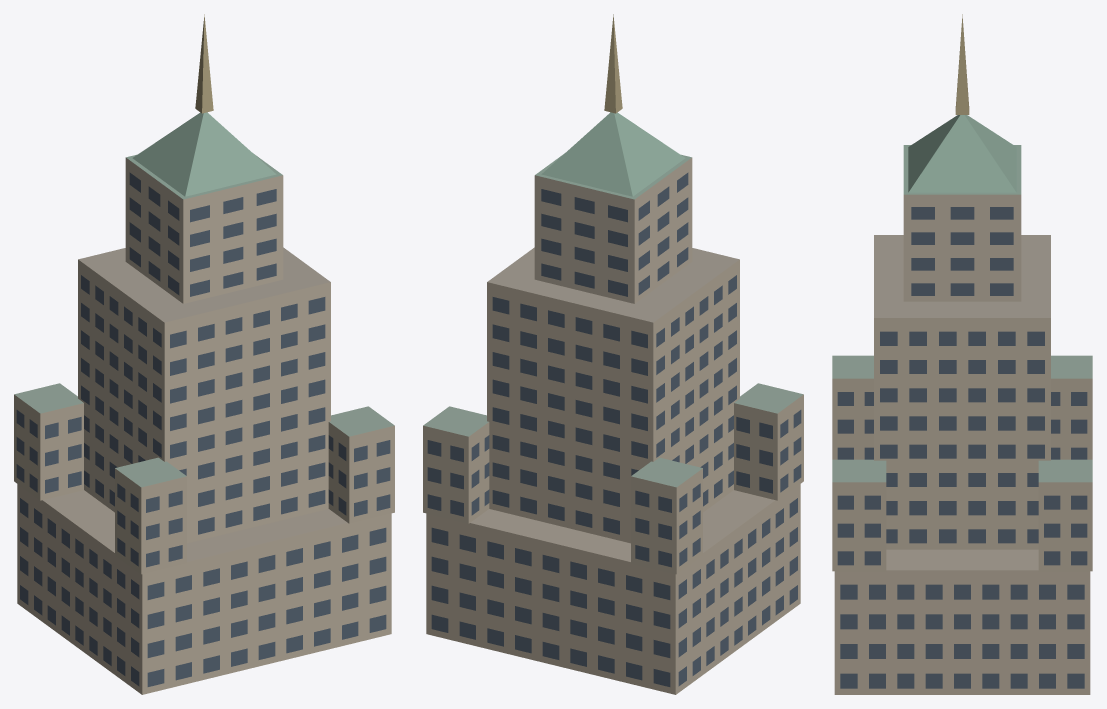
File: highrise_07_monumental_spire.glb
3 views of the same model, side by side, from view 1: azimuth 30°, elevation 25°; view 2: azimuth 150°, elevation 25°; view 3: azimuth 270°, elevation 25° (orthographic). The views are drawn at different scales.
Visible parts, largest first — view 1: highrise_07_monumental_spire; view 2: highrise_07_monumental_spire; view 3: highrise_07_monumental_spire.
Part boxes in pixels (x1,y1,x2,y2): highrise_07_monumental_spire: (14,14,394,694); highrise_07_monumental_spire: (423,14,803,694); highrise_07_monumental_spire: (832,14,1092,694).
Bounding box in the file's own units: 30.53 × 69.5 × 26.53.
